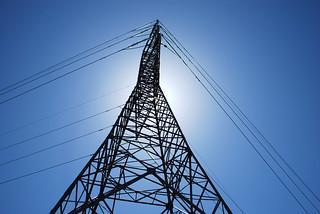power_tower: (48, 15, 236, 214)
